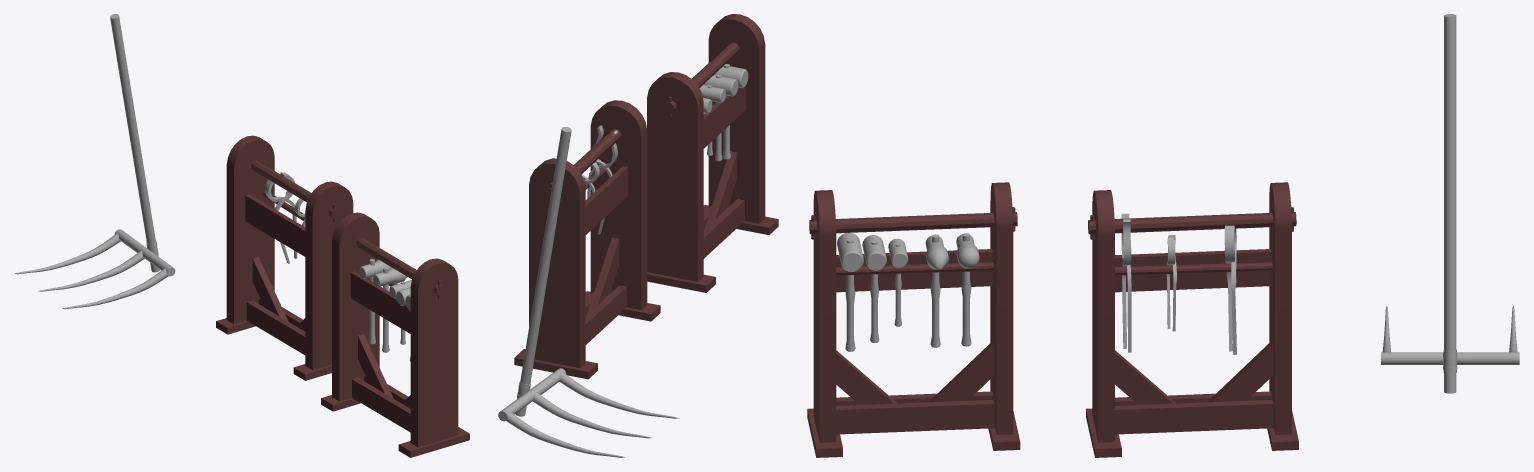
File: Tools.fbx
3 views of the same model, side by side, from view 1: azimuth 30°, elevation 25°; view 2: azimuth 150°, elevation 25°; view 3: azimuth 270°, elevation 25° (orthographic). The views are drawn at different scales.
Parts seen in each view (by area): view 1: pasted__polySurface155, pasted__polySurface156, pasted__polySurface162, pasted__polySurface163, pasted__polySurface165, pasted__polySurface164, pasted__polySurface166, pasted__polySurface161; view 2: pasted__polySurface155, pasted__polySurface156, pasted__polySurface162, pasted__polySurface163, pasted__polySurface165, pasted__polySurface164, pasted__polySurface166, pasted__transform11, pasted__polySurface146, pasted__polySurface104, pasted__polySurface149; view 3: pasted__polySurface156, pasted__polySurface155, pasted__polySurface162, pasted__polySurface163, pasted__transform11, pasted__polySurface161, pasted__polySurface104, pasted__polySurface150, pasted__polySurface151.
Part boxes in pixels (x1,y1,x2,y2): pasted__polySurface155: (321,212,469,457); pasted__polySurface156: (216,135,353,380); pasted__polySurface162: (110,14,159,272); pasted__polySurface163: (114,229,175,276); pasted__polySurface165: (38,251,144,291); pasted__polySurface164: (62,268,170,309); pasted__polySurface166: (15,233,120,274); pasted__polySurface161: (265,172,297,263); pasted__polySurface155: (647,14,778,292); pasted__polySurface156: (514,100,660,379); pasted__polySurface162: (515,127,571,416); pasted__polySurface163: (498,368,566,421); pasted__polySurface165: (532,392,651,438); pasted__polySurface164: (559,373,678,418); pasted__polySurface166: (506,412,624,457); pasted__transform11: (587,125,617,234); pasted__polySurface146: (703,75,738,96); pasted__polySurface104: (714,66,748,88); pasted__polySurface149: (699,85,725,102); pasted__polySurface156: (1086,182,1298,457); pasted__polySurface155: (807,182,1020,457); pasted__polySurface162: (1444,14,1456,393); pasted__polySurface163: (1381,352,1519,364); pasted__transform11: (1121,213,1131,352); pasted__polySurface161: (1224,225,1236,354); pasted__polySurface104: (837,232,863,271); pasted__polySurface150: (930,234,940,347); pasted__polySurface151: (961,233,971,346).
Size of the model in its own units: 7.88 by 10.85 by 19.03.
